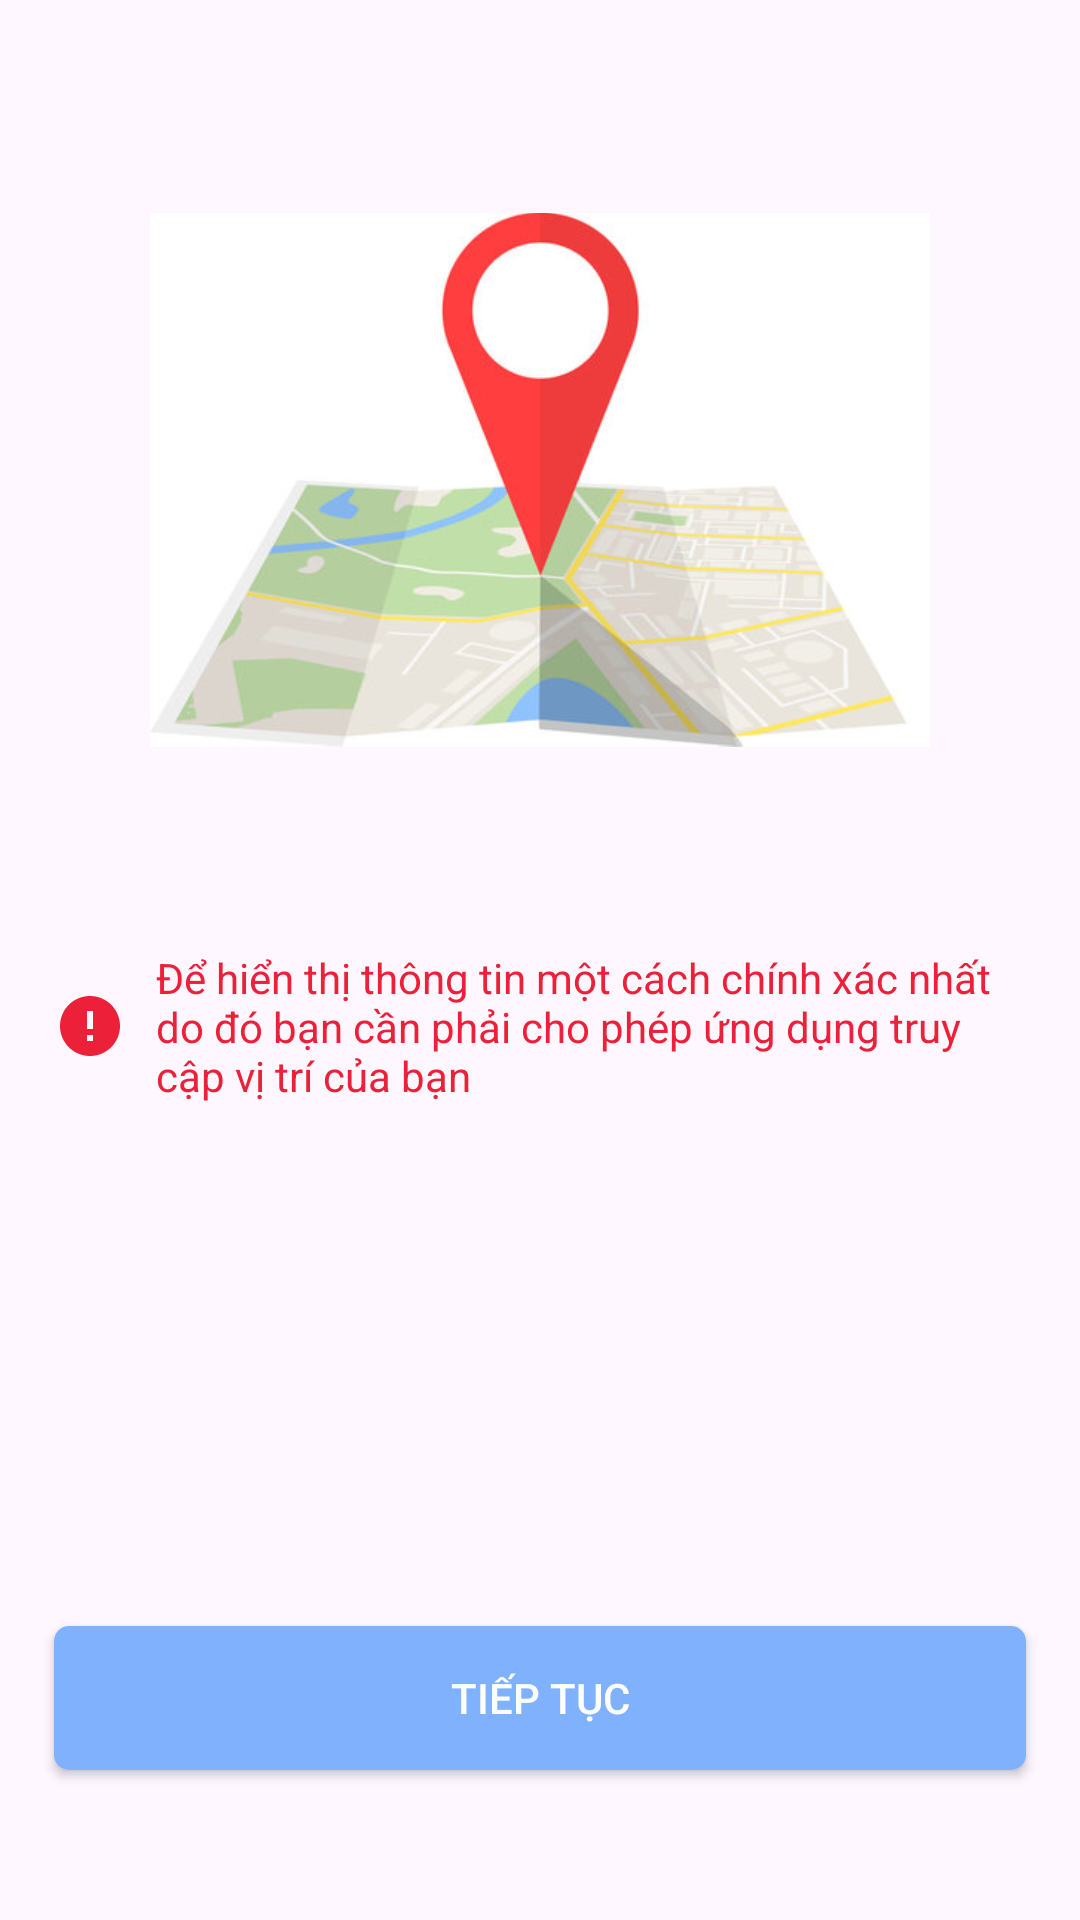

Named icons in this screenshot (1080*1920) and their bounding boxes, bbox(x1, y1, x2, y2):
error: bbox(60, 996, 120, 1056)
